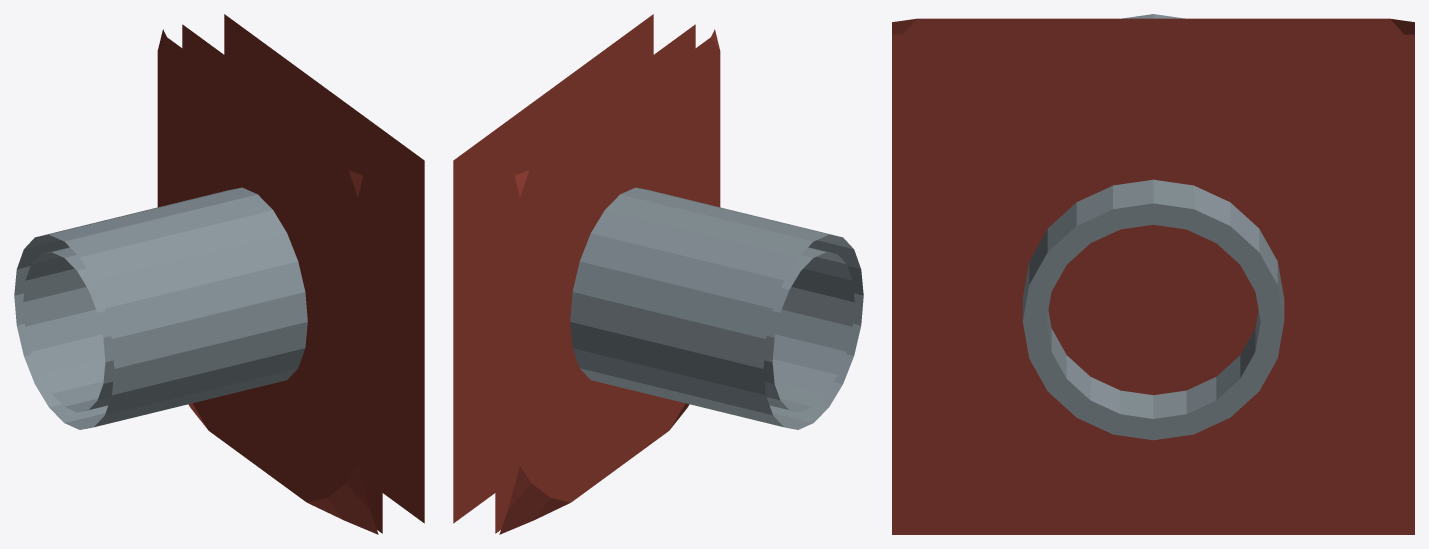
The model's file is cell_37.obj.
The picture shows the model from 3 angles, left to right: view 1: azimuth 30°, elevation 25°; view 2: azimuth 150°, elevation 25°; view 3: azimuth 270°, elevation 25°; orthographic projection. The views are drawn at different scales.
Bounding box in the file's own units: 0.8575 × 1 × 1.
